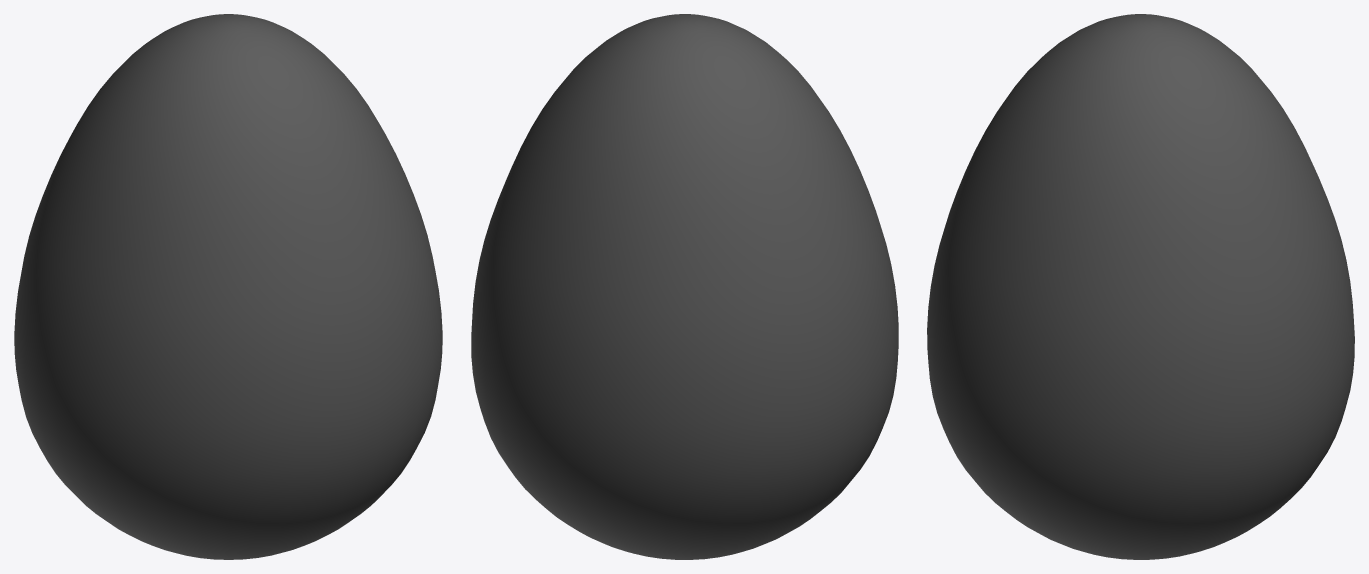
File: egg_grey.glb
The picture shows the model from 3 angles, left to right: view 1: azimuth 30°, elevation 25°; view 2: azimuth 150°, elevation 25°; view 3: azimuth 270°, elevation 25°; orthographic projection.
Parts seen in each view (by area): view 1: node_id264; view 2: node_id264; view 3: node_id264.
Boxes of the visible parts, <box> form: node_id264: <box>14,14,442,559</box>; node_id264: <box>471,14,898,559</box>; node_id264: <box>927,14,1354,559</box>.
Bounding box in the file's own units: 0.2929 × 0.3906 × 0.2929.
1 material, 1 textured.
